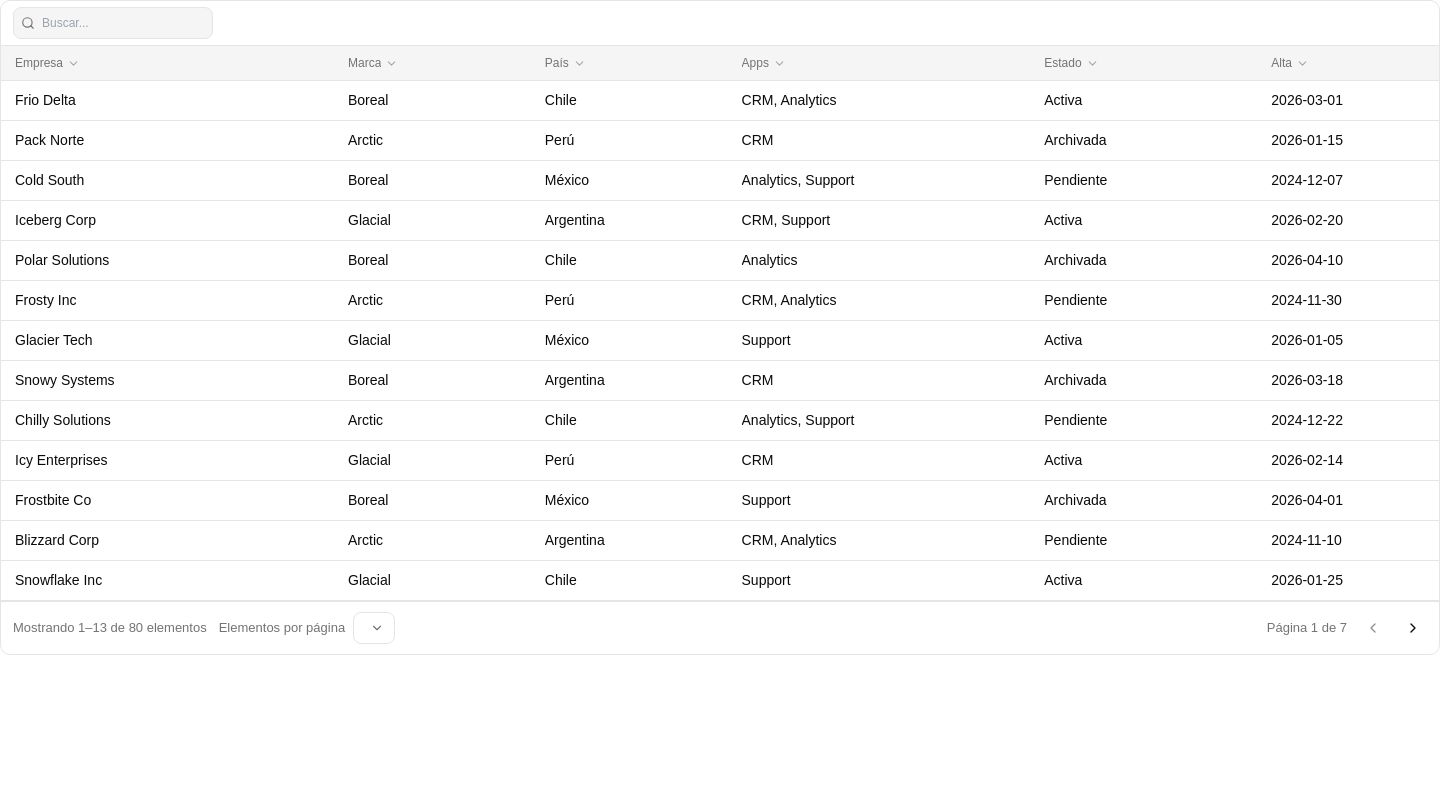
Test: an uncontrolled default size missing from the options is not added
Click the dropdown named "Elementos por página". click: coordinates (374, 628)
box: [353,612,395,644]
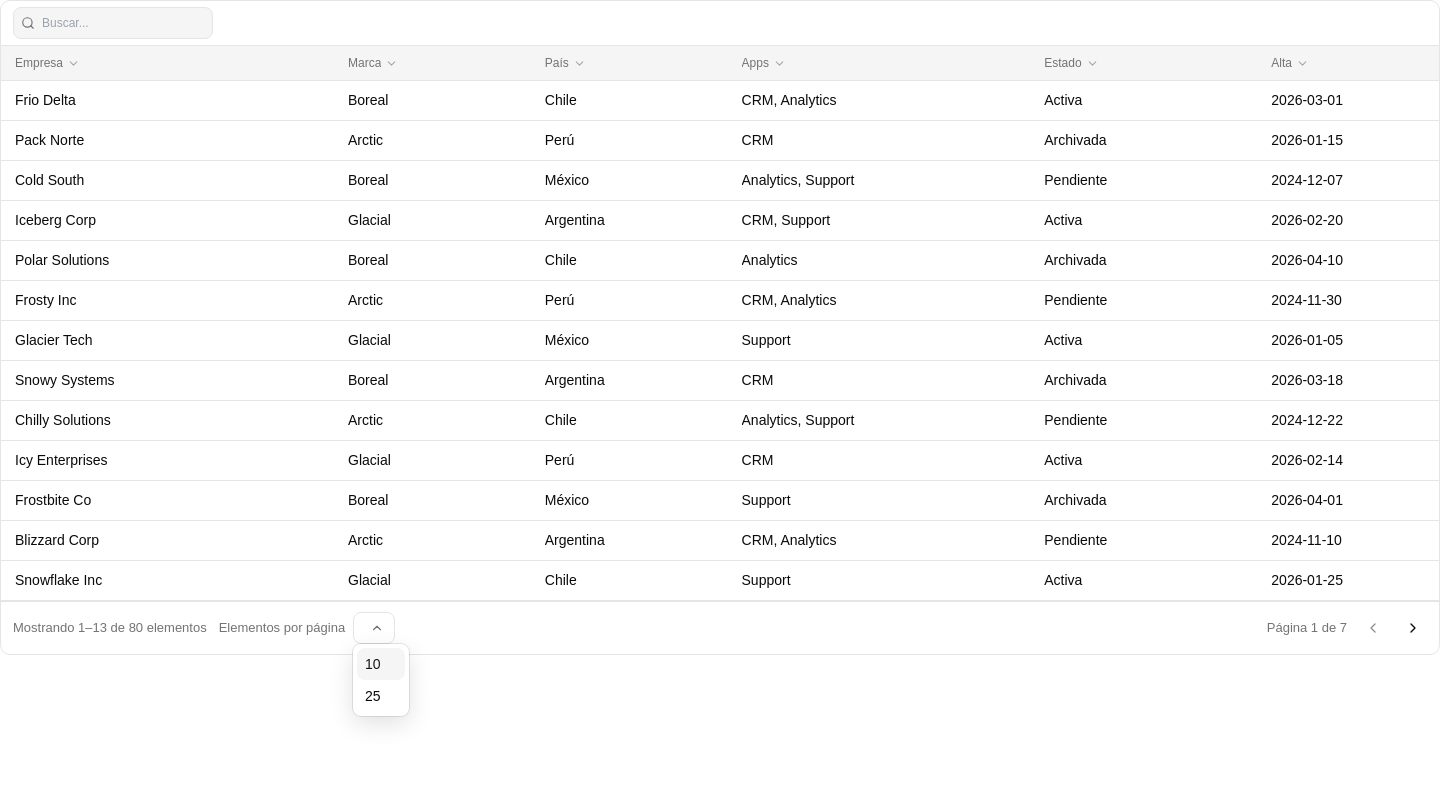
Check: the options read "10", "25", in this order, box [357,648,405,680]; [365,688,381,704]
